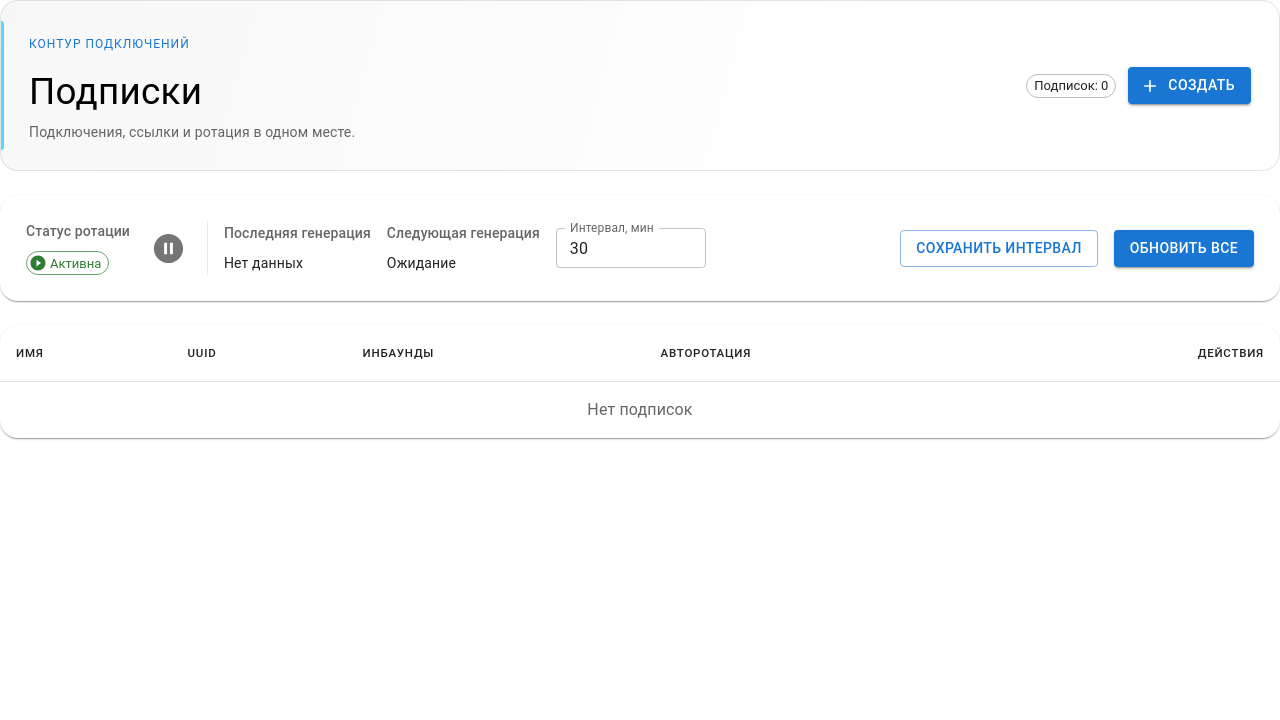
it: SubscriptionsPage › Диалог создания подписки › должен закрывать диалог при клике на "Отмена"
The image size is (1280, 720).
Click the button "Создать" at (1190, 86), box [1128,67,1251,104]
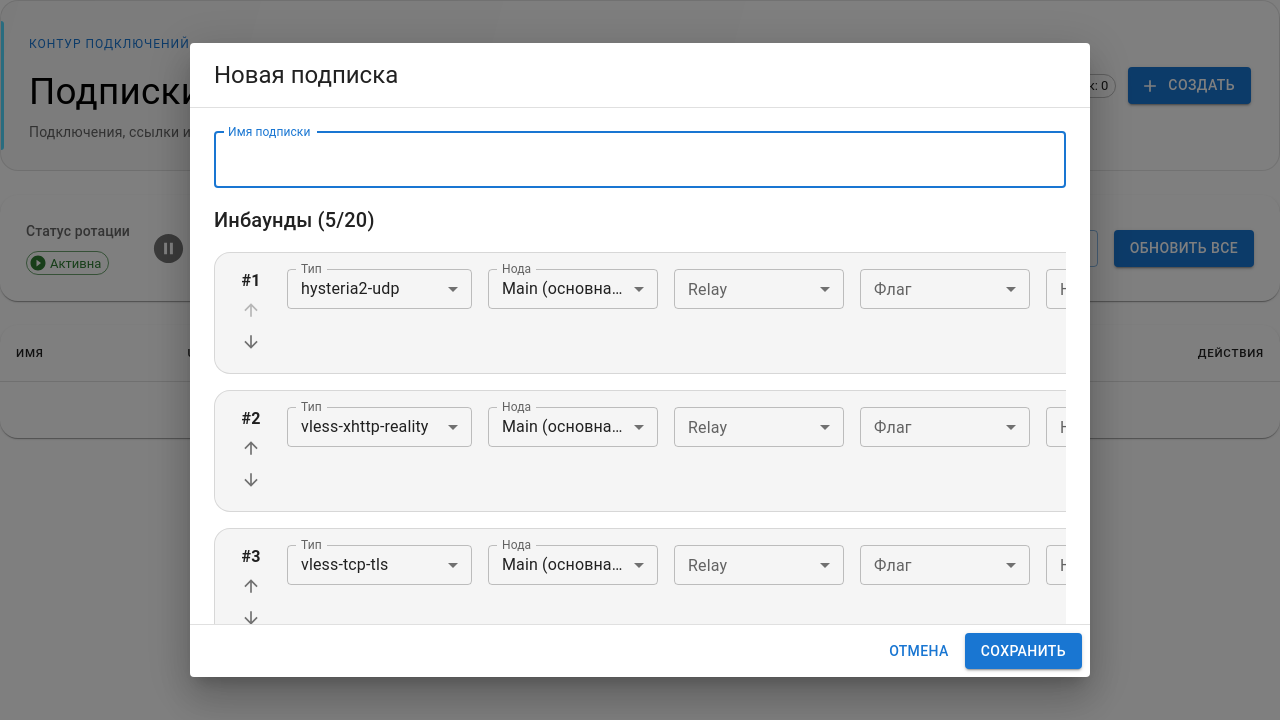
Click the button "Отмена" at (919, 651), box [881,633,957,670]
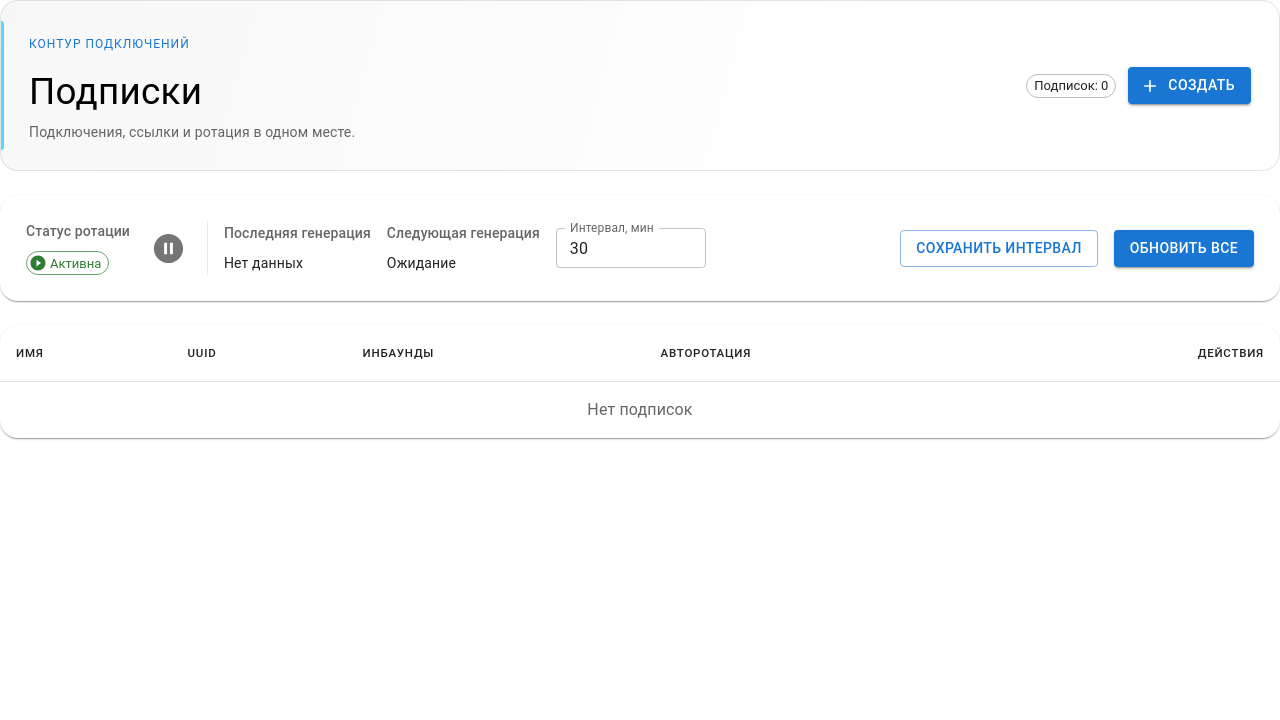
Now the heading "Новая подписка" is gone
